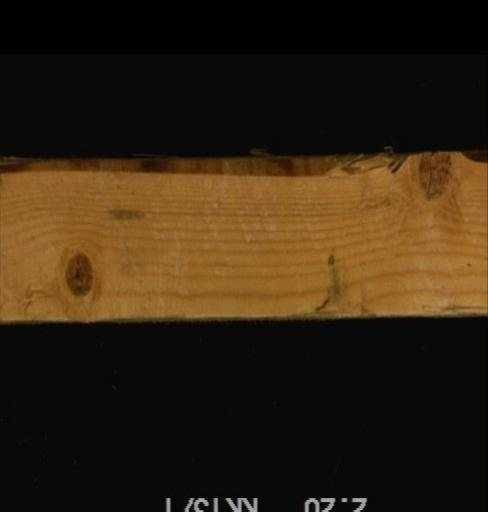sound_knot: (63, 250, 95, 301)
wave: (0, 148, 485, 197)
